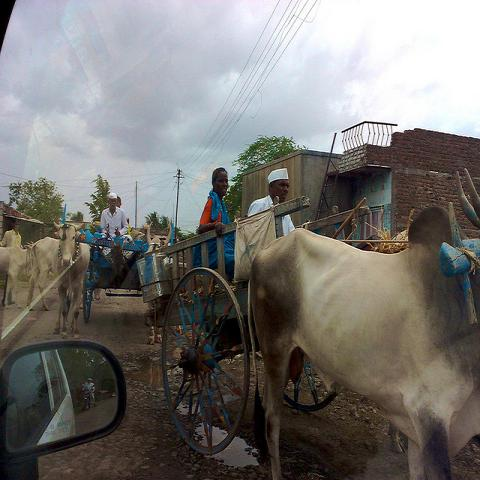car: (0, 333, 126, 479)
